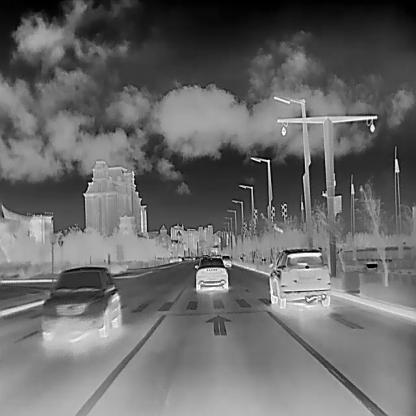car: (40, 266, 121, 340), (268, 246, 330, 308), (193, 255, 228, 293), (220, 255, 231, 266)
